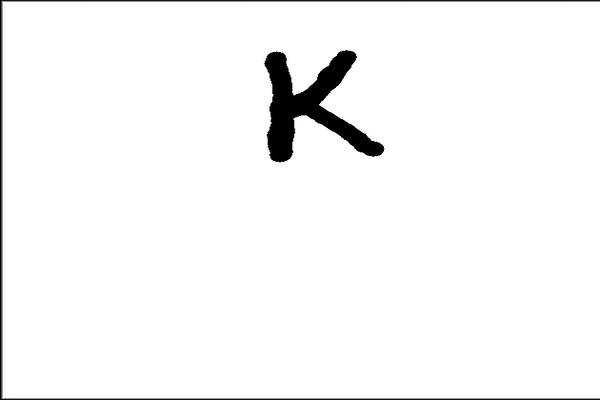K: (257, 43, 392, 169)
